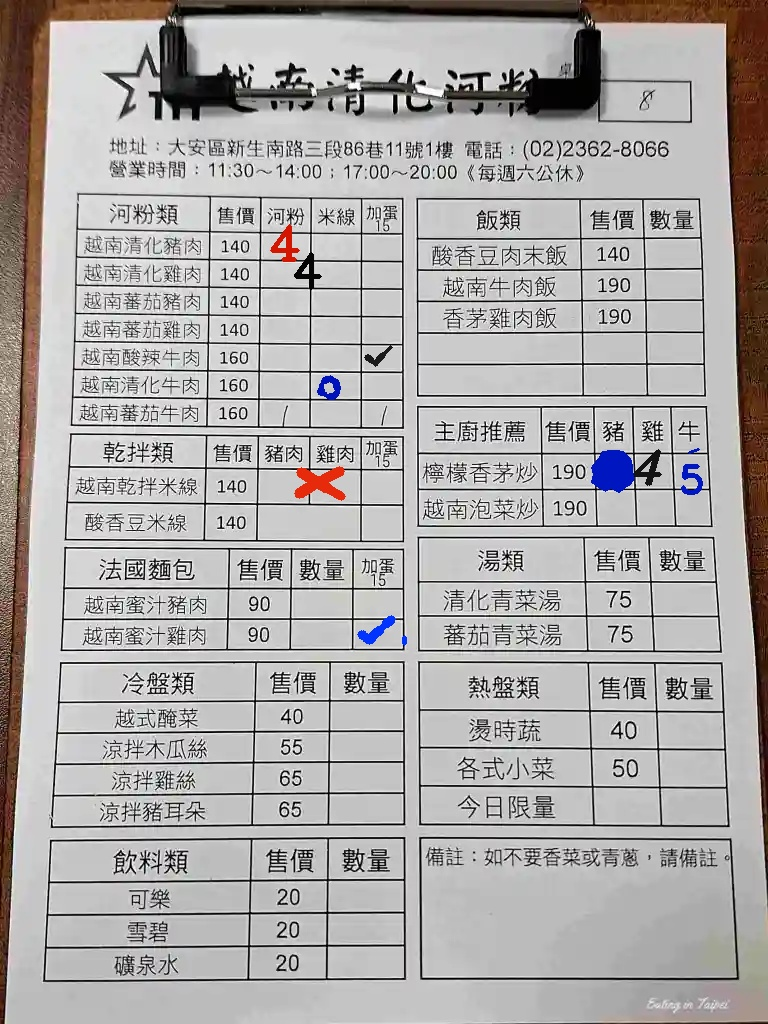marked_circle: (594, 450, 634, 487)
marked_hollow: (311, 371, 360, 399)
marked_number_4: (633, 452, 673, 489), (262, 258, 311, 286), (263, 231, 312, 259)
marked_number_5: (671, 452, 711, 489)
marked_tick: (352, 616, 404, 649), (361, 342, 401, 372)
marked_x: (309, 469, 361, 502)
